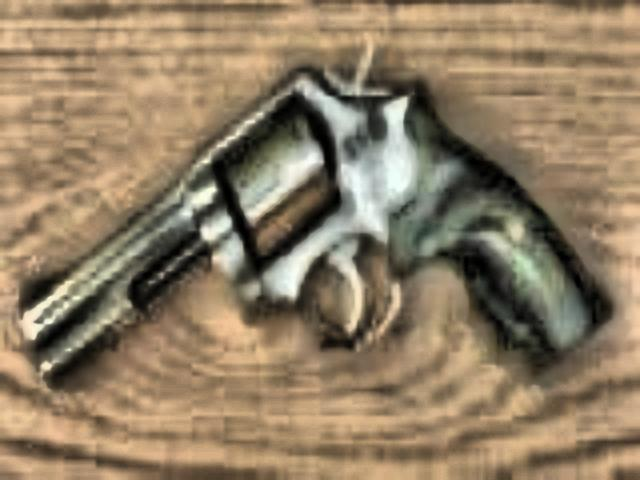pistol: (24, 48, 604, 372)
